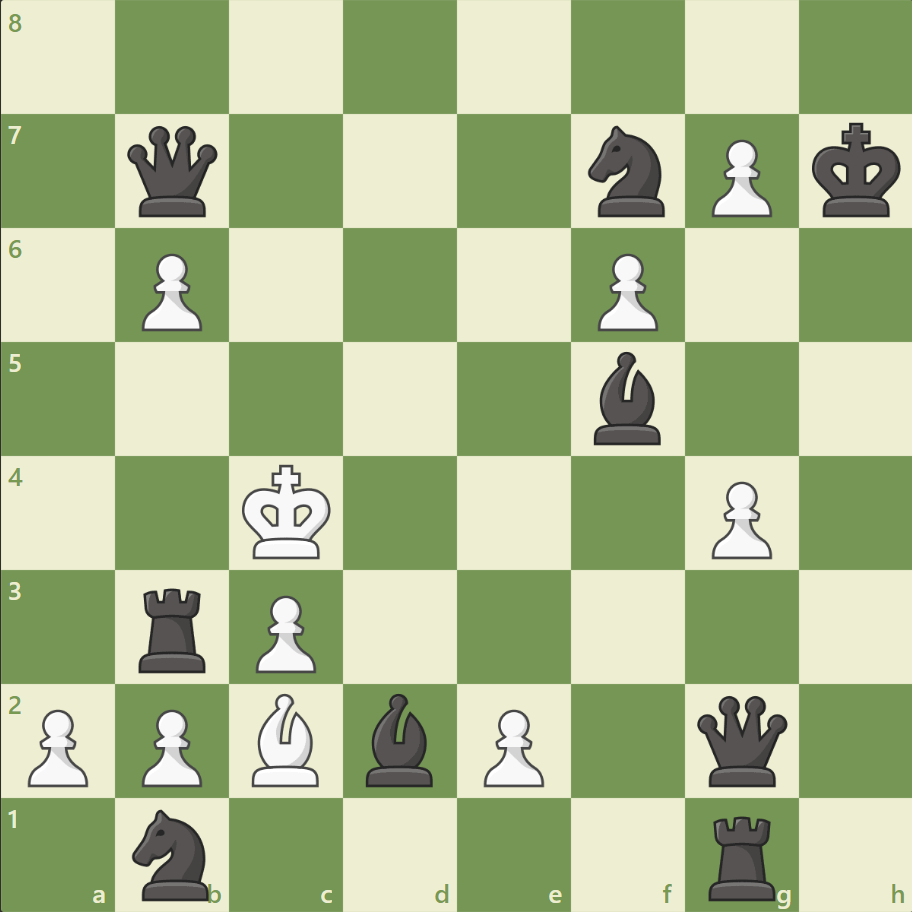B: (244, 687, 328, 790)
K: (238, 458, 338, 566)
P: (701, 132, 776, 223), (133, 246, 208, 337), (701, 473, 776, 564), (247, 586, 322, 677), (20, 700, 95, 791), (133, 700, 208, 791), (474, 700, 549, 791), (588, 246, 662, 337)
b: (358, 687, 442, 790), (585, 347, 669, 449)
k: (806, 117, 906, 225)
n: (124, 802, 222, 904), (579, 121, 676, 223)
q: (124, 122, 223, 222), (691, 690, 790, 789)
r: (700, 806, 783, 904), (133, 579, 215, 676)
